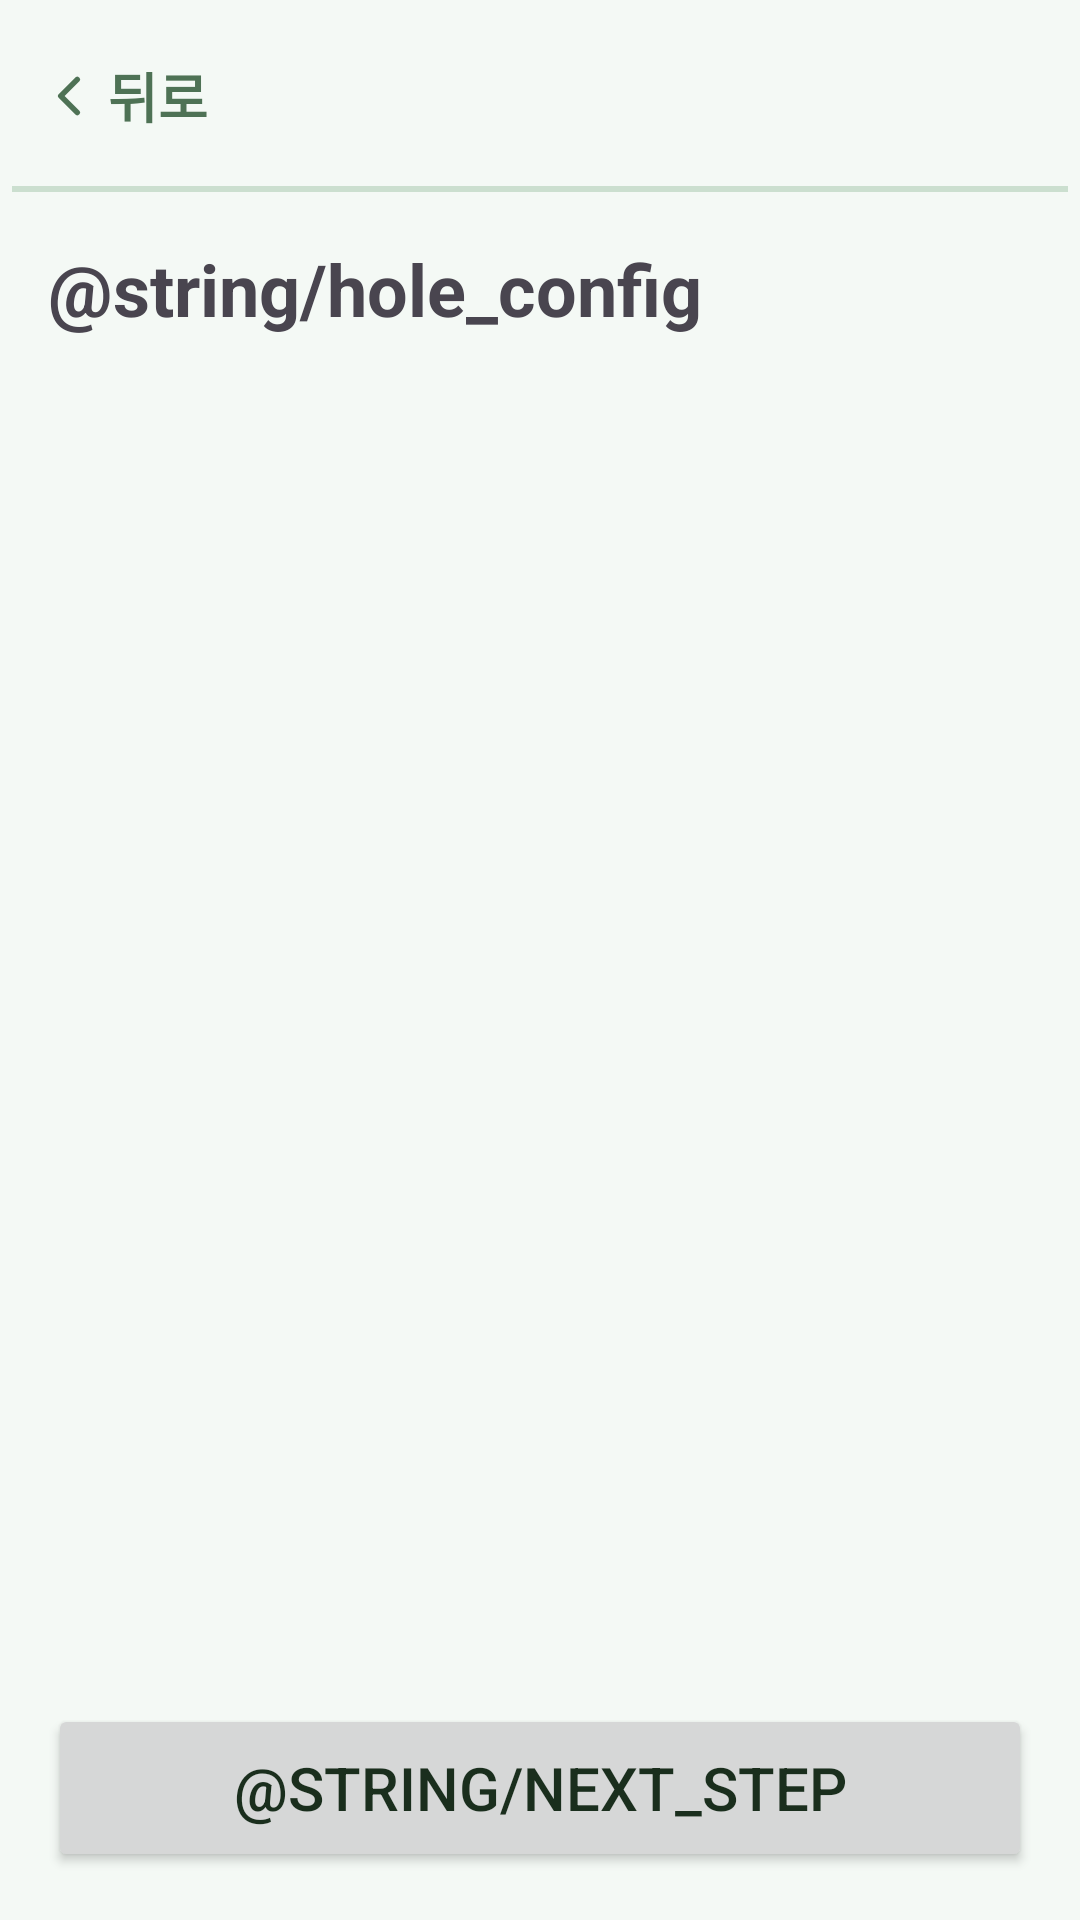

Named icons in this screenshot (1080×1920) and their centers, (x=x, y=y):
chevron left: (x=69, y=96)
